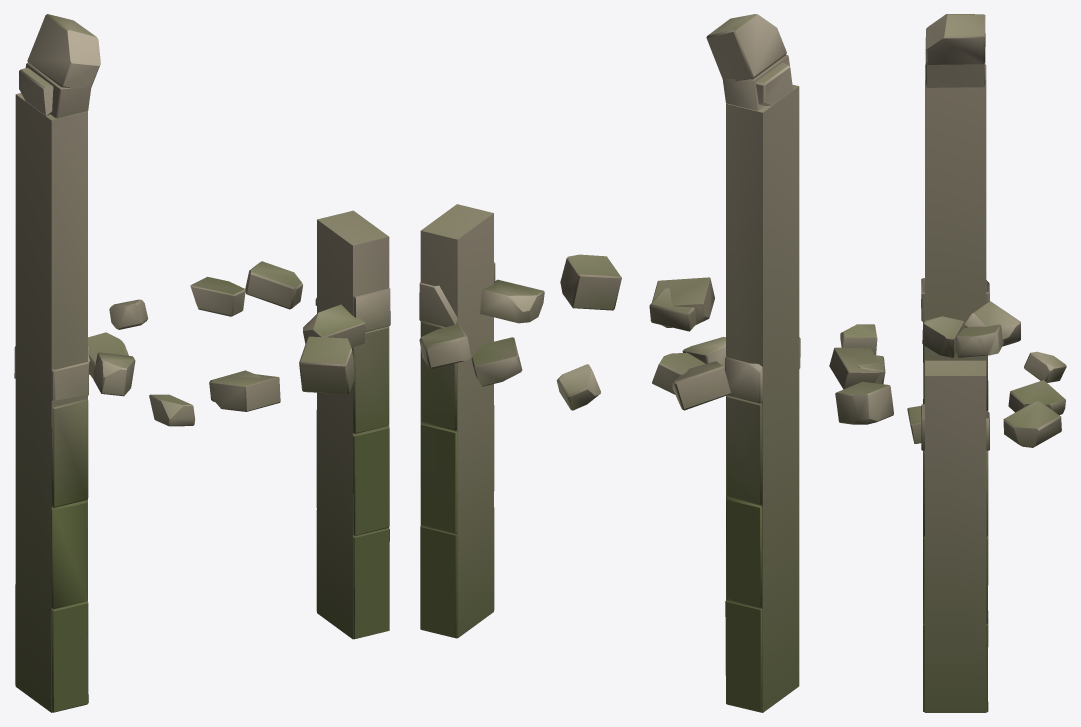
The model's file is sanctuary_arch_broken.glb.
The picture shows the model from 3 angles, left to right: view 1: azimuth 30°, elevation 25°; view 2: azimuth 150°, elevation 25°; view 3: azimuth 270°, elevation 25°; orthographic projection. The views are drawn at different scales.
Parts seen in each view (by area): view 1: sanctuary_arch_broken, sanctuary_arch_broken_far; view 2: sanctuary_arch_broken_far, sanctuary_arch_broken; view 3: sanctuary_arch_broken_far, sanctuary_arch_broken.
Part boxes in pixels (box(x1,y1,x2,y2)): sanctuary_arch_broken: box(14, 14, 390, 712); sanctuary_arch_broken_far: box(15, 93, 389, 712); sanctuary_arch_broken_far: box(420, 85, 799, 712); sanctuary_arch_broken: box(419, 14, 800, 712); sanctuary_arch_broken_far: box(925, 64, 986, 712); sanctuary_arch_broken: box(829, 14, 1066, 712).
Size of the model in its own units: 18.5 by 34.86 by 13.16.
